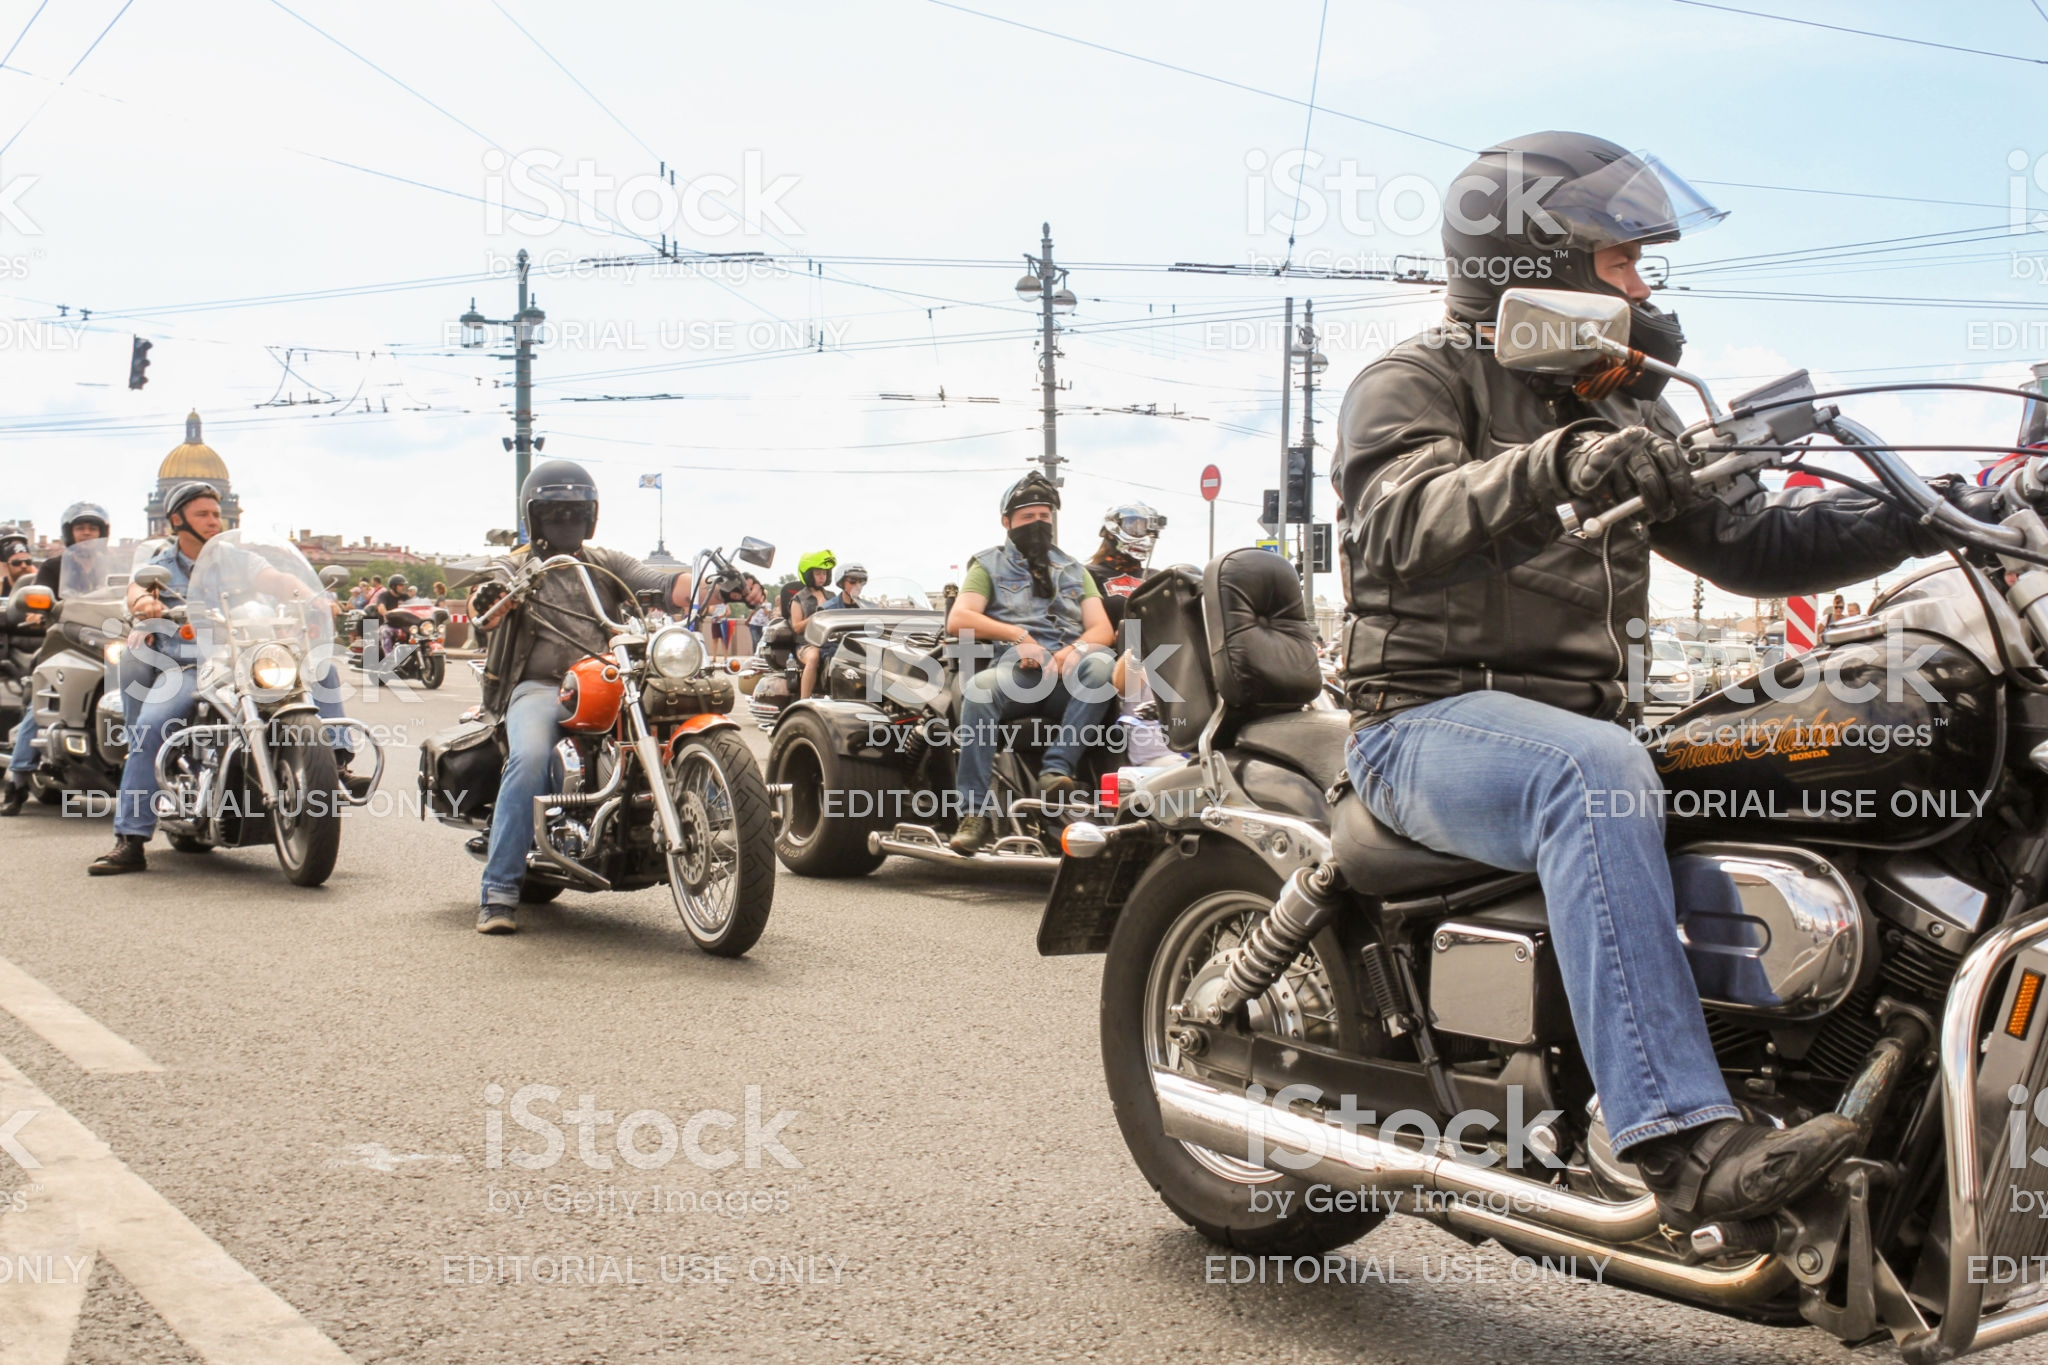helmet: (1431, 126, 1676, 356), (513, 454, 605, 550)
